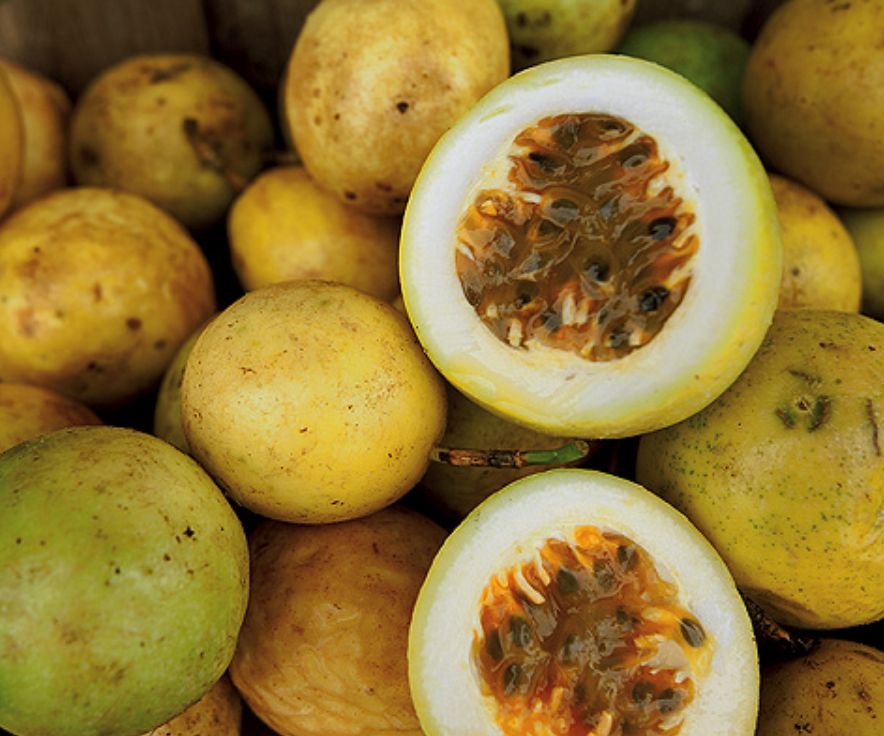maracuya: (161, 274, 458, 530), (219, 508, 480, 736), (269, 1, 525, 210), (211, 162, 408, 314)
